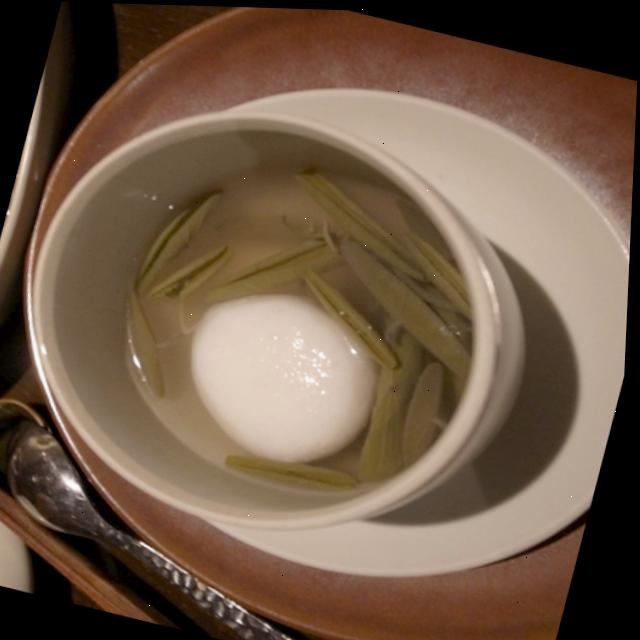熟制海鲜: (0, 49, 571, 578)
